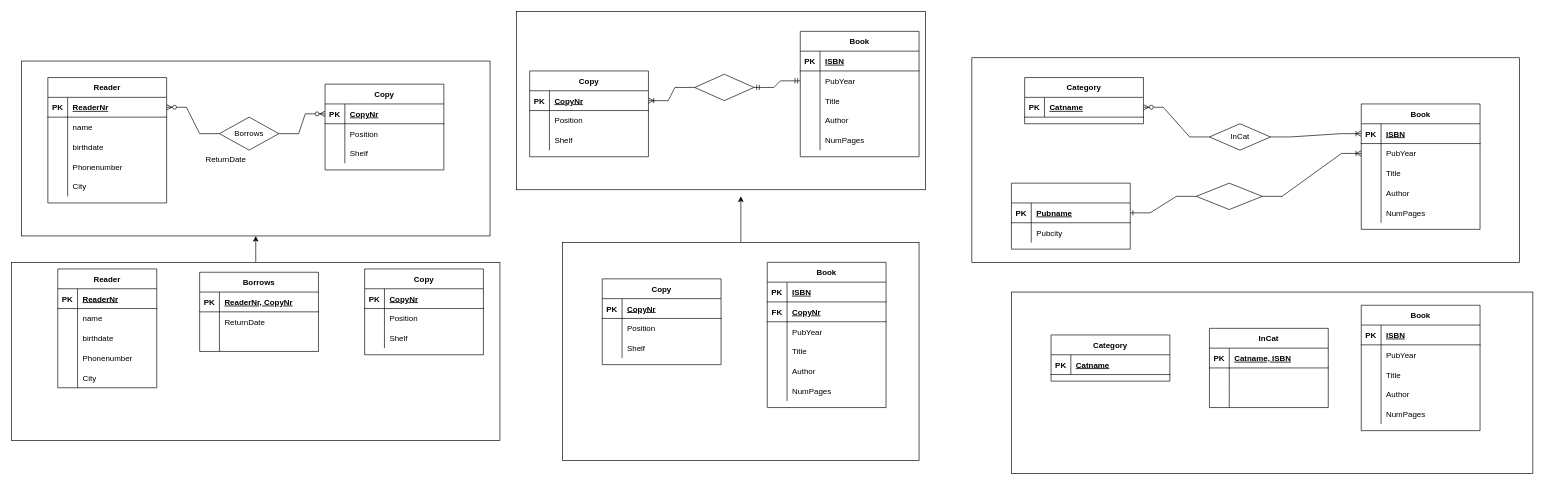
Some shapes in this 1544 by 485 pixel diagram are drawn without their labels. The shapes that lost their labels are listed below. From the top down, each one's box as (x1, y1, x2, y2) in pixels, then its label:
(694, 74, 754, 101): Available
(1011, 182, 1130, 249): Publisher
(1196, 182, 1262, 210): Publishes
